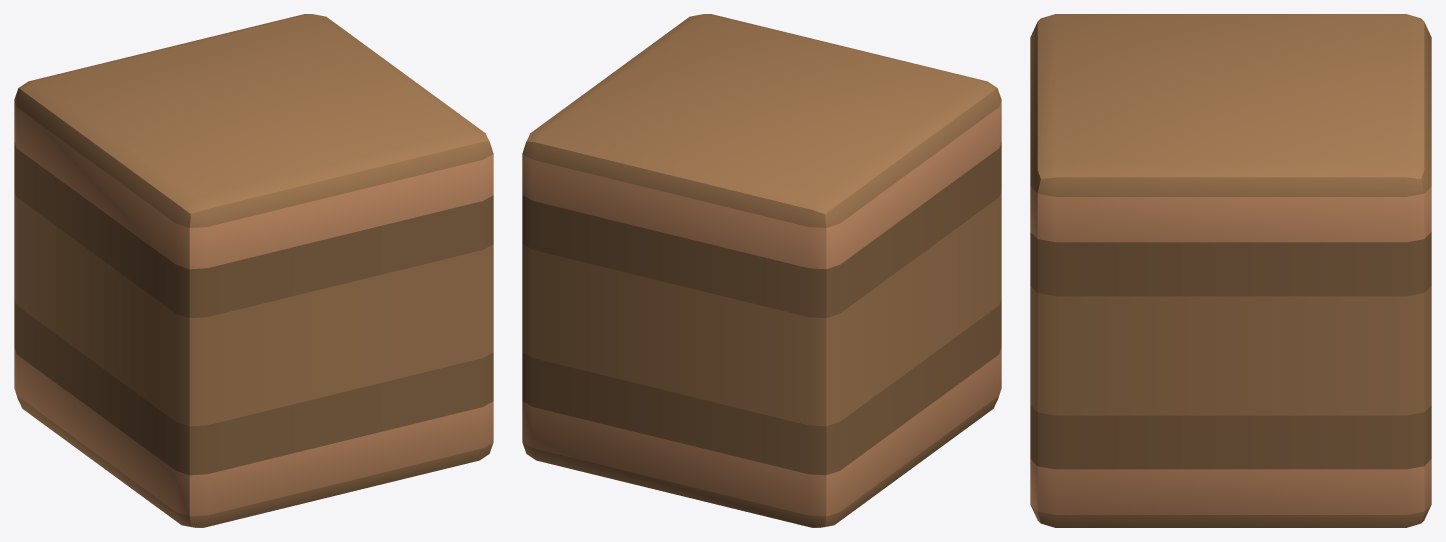
Rendered from cube_dirt_single.glb.
The picture shows the model from 3 angles, left to right: view 1: azimuth 30°, elevation 25°; view 2: azimuth 150°, elevation 25°; view 3: azimuth 270°, elevation 25°; orthographic projection. The views are drawn at different scales.
Parts seen in each view (by area): view 1: Cube_Dirt_Single; view 2: Cube_Dirt_Single; view 3: Cube_Dirt_Single.
Boxes of the visible parts, bbox=[...] form: Cube_Dirt_Single: bbox=[14, 14, 493, 527]; Cube_Dirt_Single: bbox=[522, 14, 1001, 527]; Cube_Dirt_Single: bbox=[1030, 14, 1431, 527].
Bounding box in the file's own units: 2 × 2 × 2.
